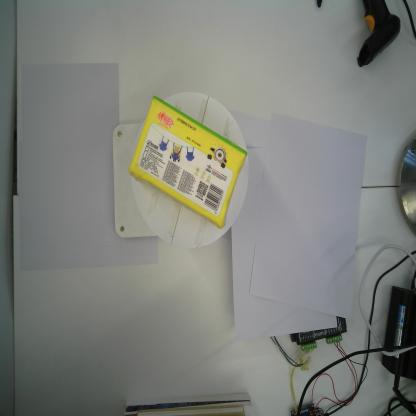Tissue: (127, 94, 248, 228)
